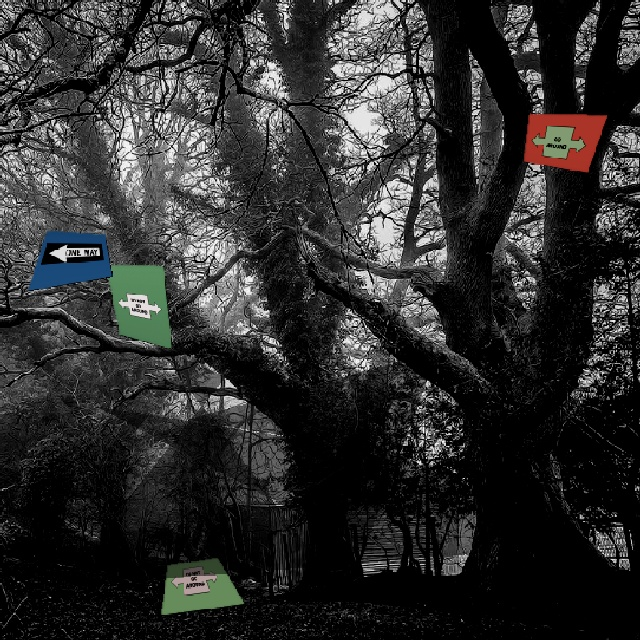DO_NOT_GO_AROUND: (168, 562, 223, 598), (115, 290, 162, 321)
GO_AROUND: (529, 124, 591, 161)
ONE_WAY_ left: (39, 240, 103, 264)
